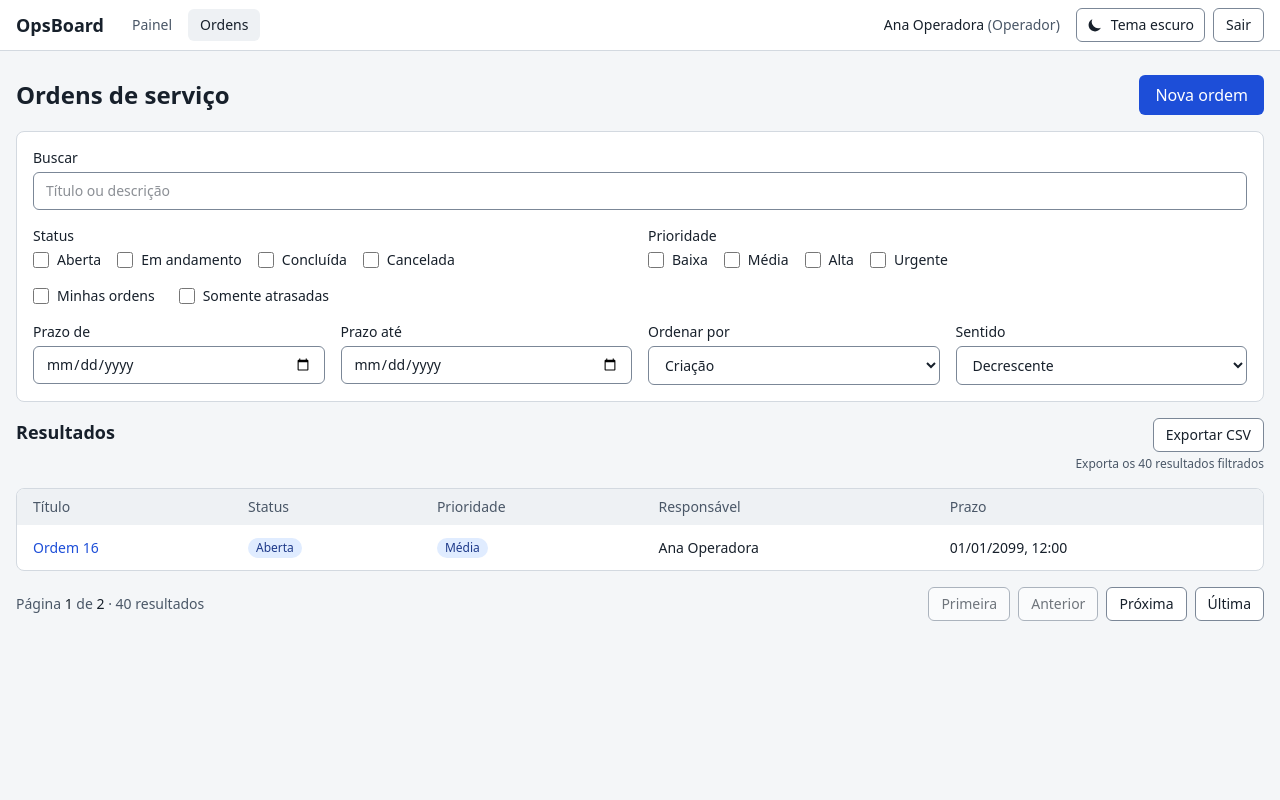
Test case: Lista de ordens (/orders) › trocar de página move o foco para o título "Resultados"
The image size is (1280, 800).
expect the navigation bar named "Paginação" shows "Página 1 de 2 · 40 resultados": met, box [16, 587, 1264, 621]
Click the button "Próxima" at coordinates (1146, 604), box [1106, 587, 1186, 621]
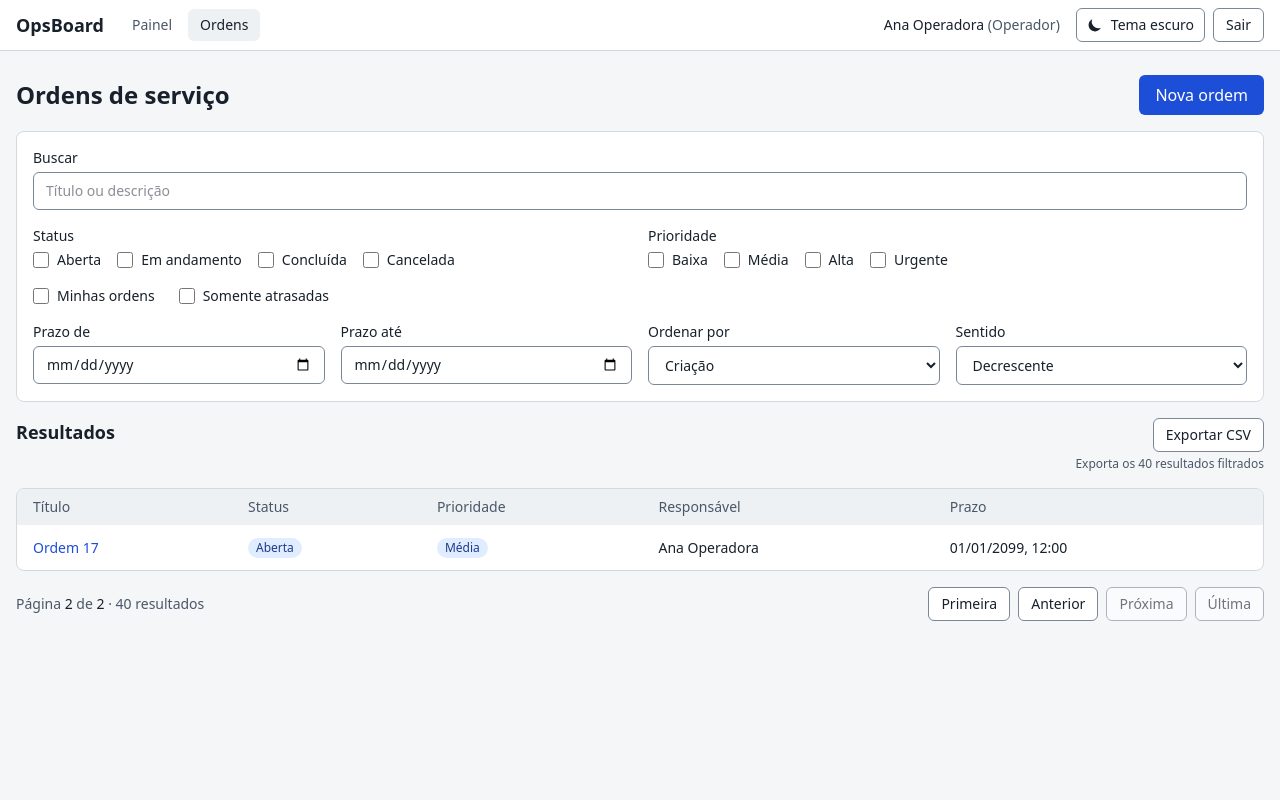
expect the navigation bar named "Paginação" shows "Página 2 de 2 · 40 resultados": met, box [16, 587, 1264, 621]
